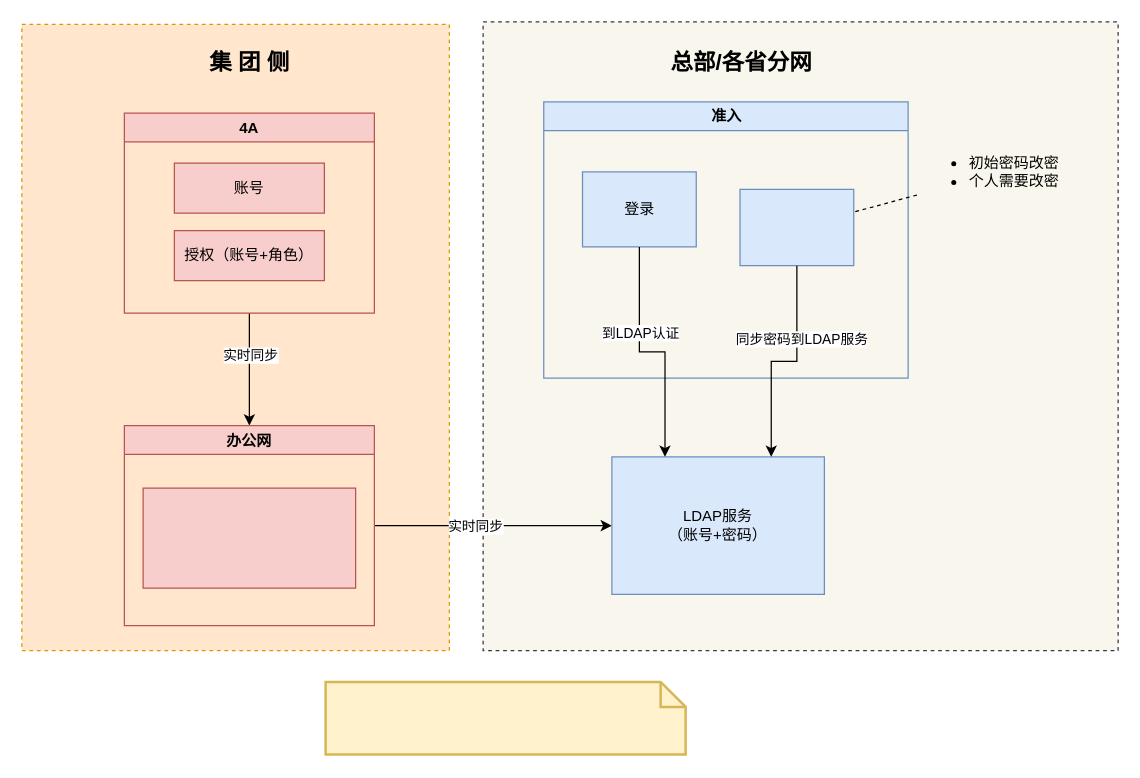
The diagram is 1140 pixels wide and 778 high, and some of its shapes have lost their labels. Each missing label, with the centre of its shape:
4A、办公网、在集团端 LDAP服务、准入为总部及各省份对应部署: pixel 505 717
改密: pixel 796 227
账号信息 （账号名、角色、默认密码）: pixel 249 537
